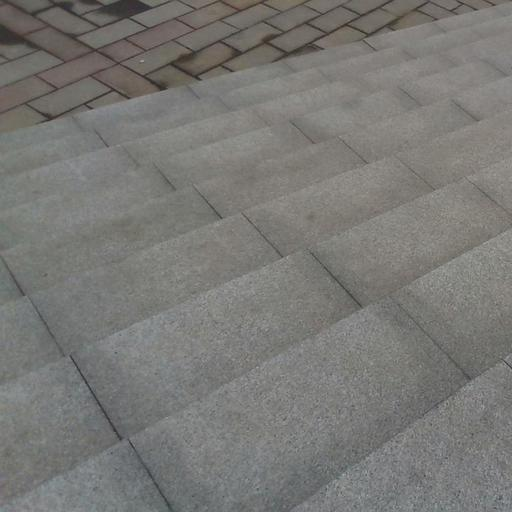stairs: (0, 4, 511, 511)
